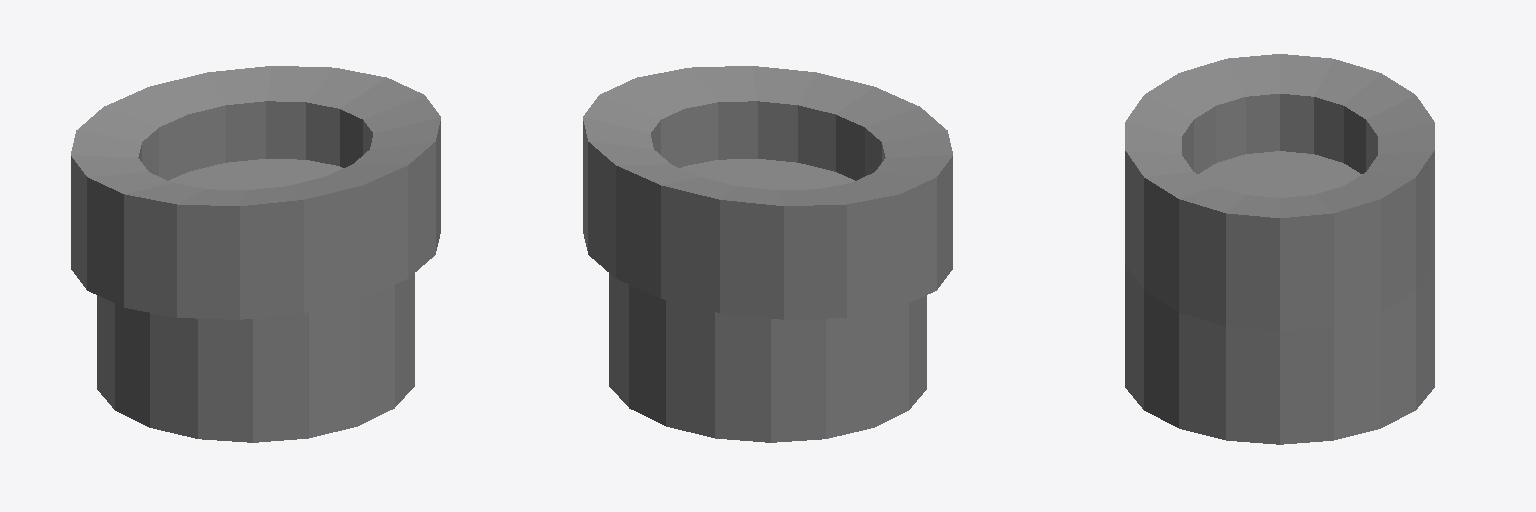
File: pipe.obj
3 views of the same model, side by side, from view 1: azimuth 30°, elevation 25°; view 2: azimuth 150°, elevation 25°; view 3: azimuth 270°, elevation 25° (orthographic).
Visible parts, largest first — view 1: Cylinder002.002_Mesh.017, Cylinder001.004_Mesh.016; view 2: Cylinder002.002_Mesh.017, Cylinder001.004_Mesh.016; view 3: Cylinder002.002_Mesh.017, Cylinder001.004_Mesh.016.
Boxes of the visible parts, <box> form: Cylinder002.002_Mesh.017: <box>71,66,440,319</box>; Cylinder001.004_Mesh.016: <box>97,159,414,442</box>; Cylinder002.002_Mesh.017: <box>583,66,952,319</box>; Cylinder001.004_Mesh.016: <box>609,159,926,442</box>; Cylinder002.002_Mesh.017: <box>1125,54,1434,331</box>; Cylinder001.004_Mesh.016: <box>1125,151,1434,444</box>.
Size of the model in its own units: 27.92 by 18.97 by 22.16.